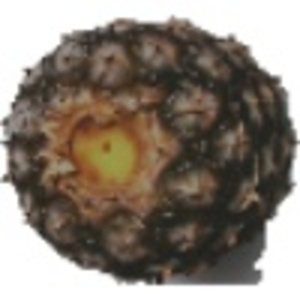abacaxi: (5, 17, 292, 276)
